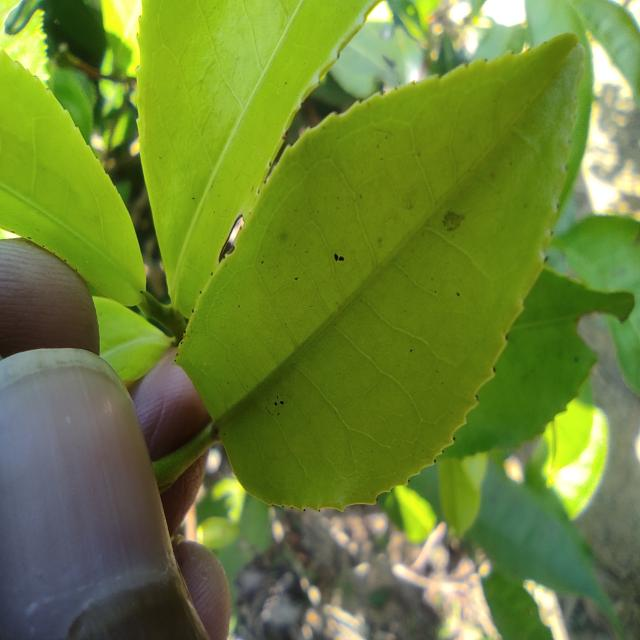Category C 4-7 days: (154, 24, 594, 548)
